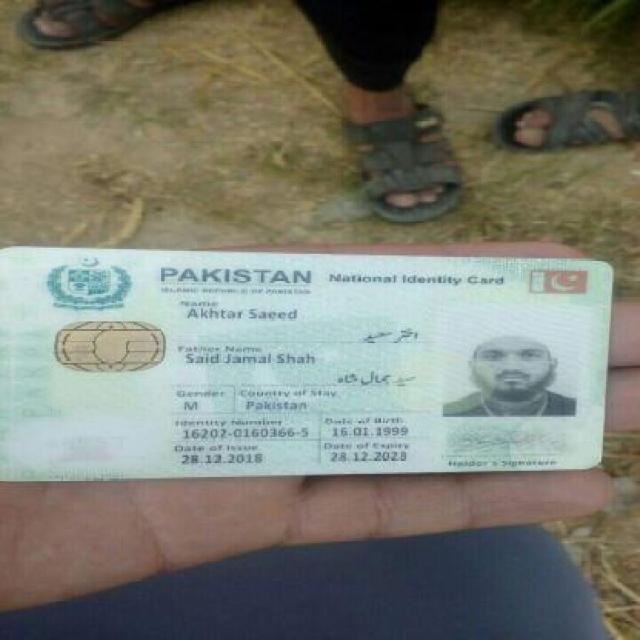Front: (4, 242, 610, 482)
